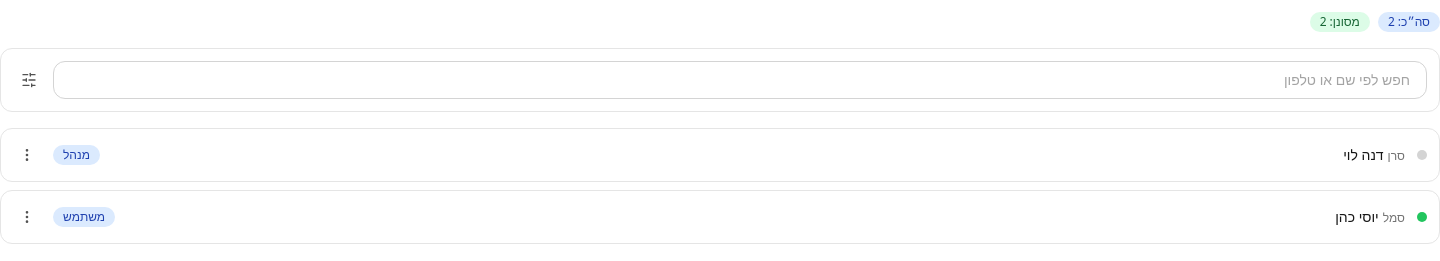
Test: PersonnelTab › narrows the list when the search input matches a single record (after debounce)
The width and height of the screenshot is (1440, 261).
Type "דנה" into the field with placeholder "חפש לפי שם או טלפון".
click(740, 80); type("דנה")  # box [53, 61, 1427, 99]
Wait 350 ms
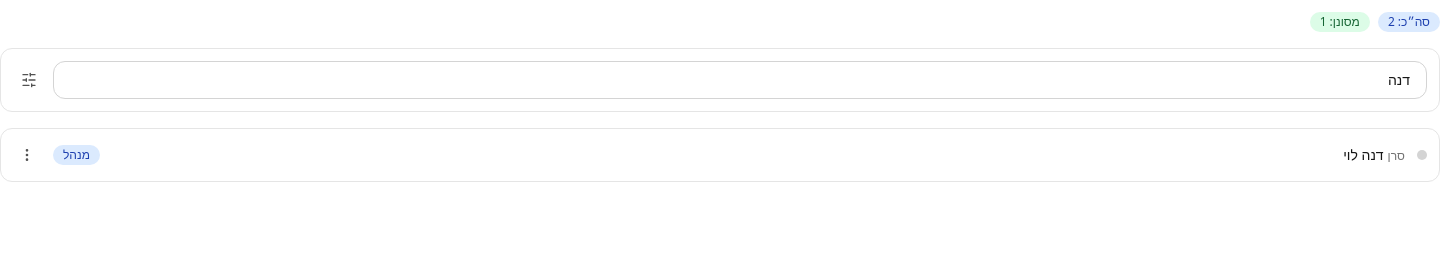
Check: the text "דנה לוי" is shown, box [1343, 145, 1384, 164]
Check: the button "יוסי כהן" is gone
